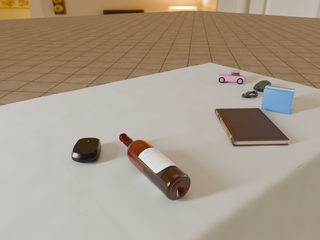book: (215, 108, 289, 146)
bottle: (119, 133, 191, 200)
box: (261, 85, 295, 114)
mouse: (71, 138, 101, 163), (253, 80, 271, 92)
toy_car: (218, 70, 245, 84)
